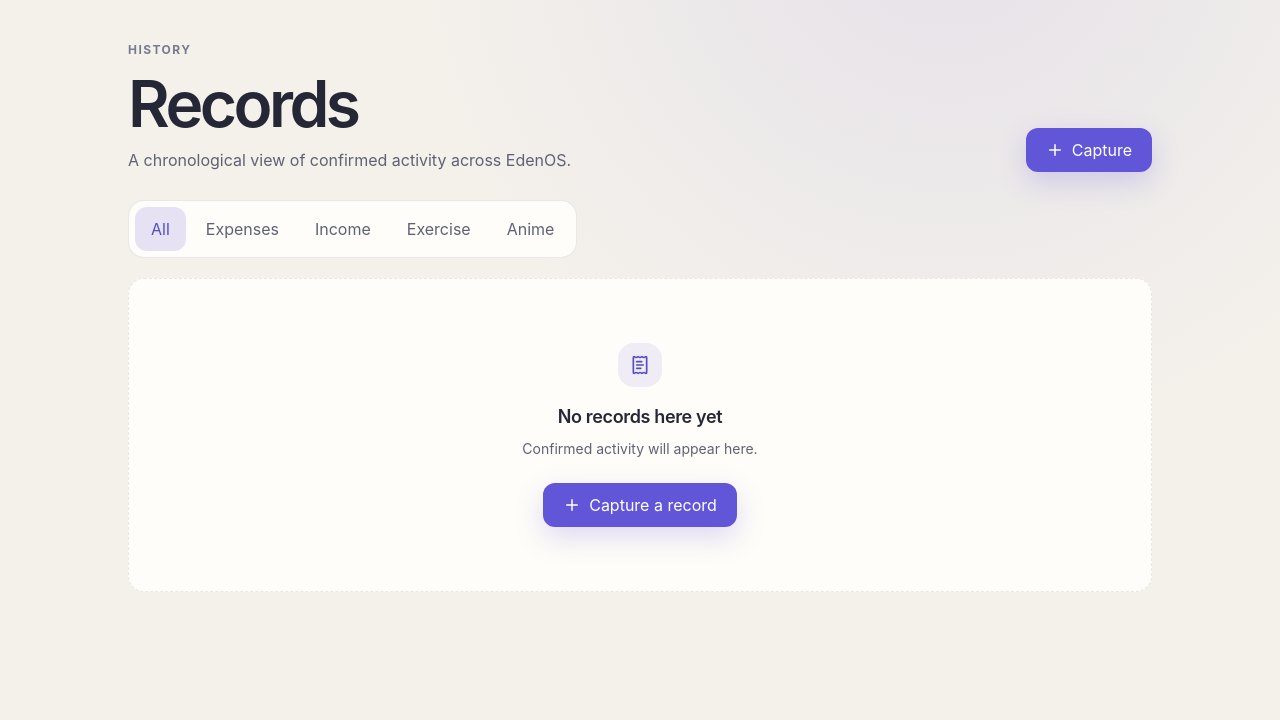
it: Records page empty state › opens the existing Capture methods from a loaded empty history
The image size is (1280, 720).
Click the button "Capture a record" at (640, 505), box [543, 483, 737, 527]
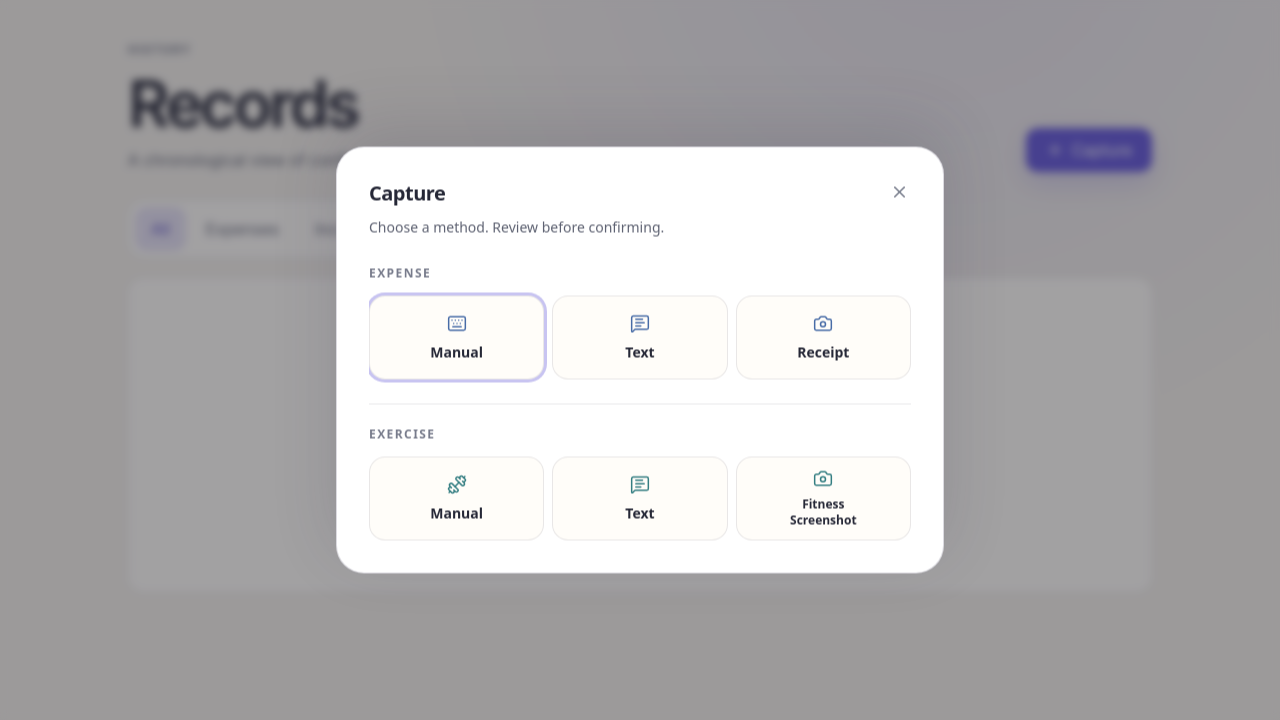
Result: the dialog "Capture" is shown at [336, 146, 944, 574]
Result: the button named "Exercise Text" is shown at [552, 456, 728, 540]
Result: the button named "Expense Receipt" is shown at [736, 296, 911, 380]
